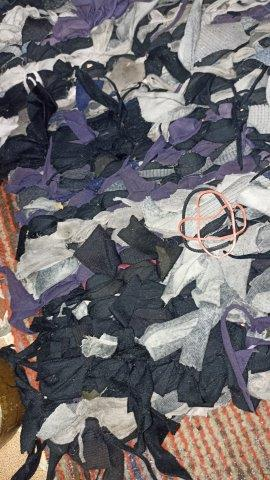karet: (178, 187, 247, 258)
